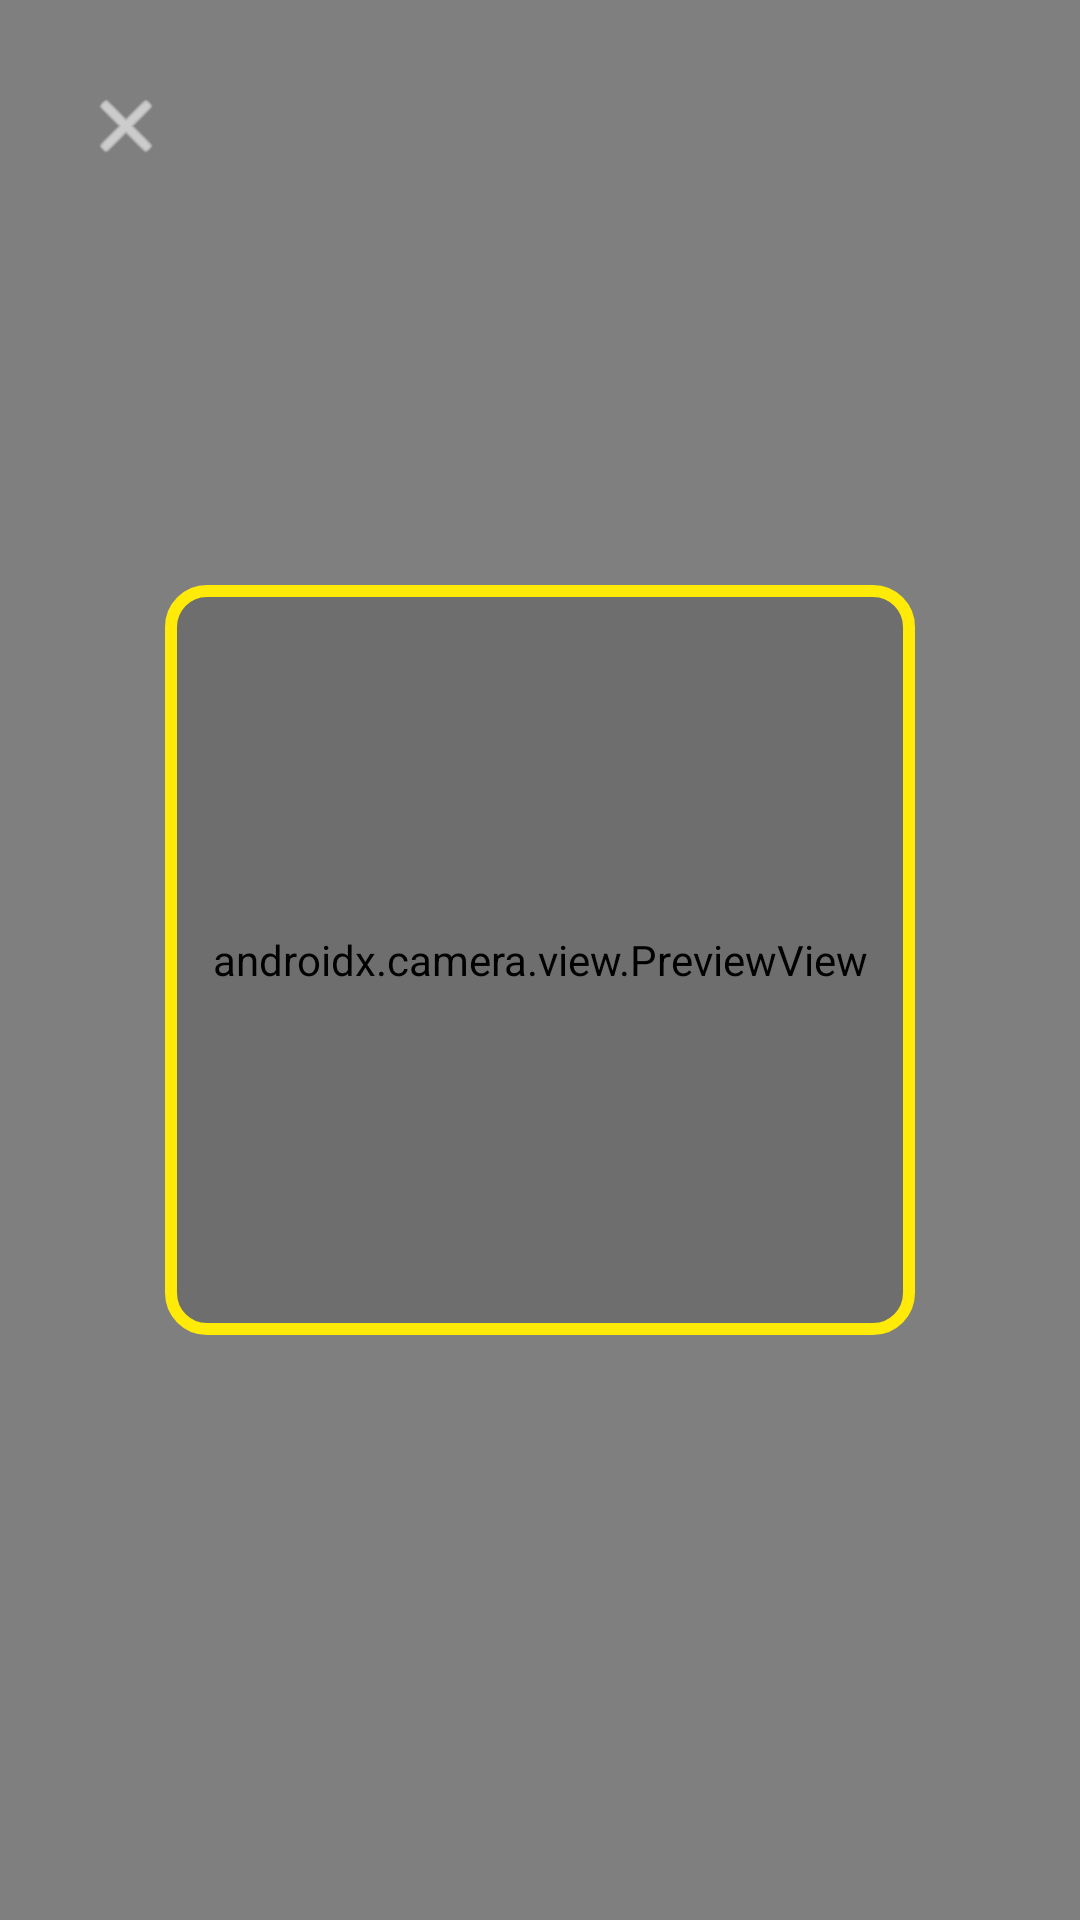

Named icons in this screenshot (1080*1920) and their bounding boxes, (x1,y1,x2,y2):
Close: (100,100,152,152)
